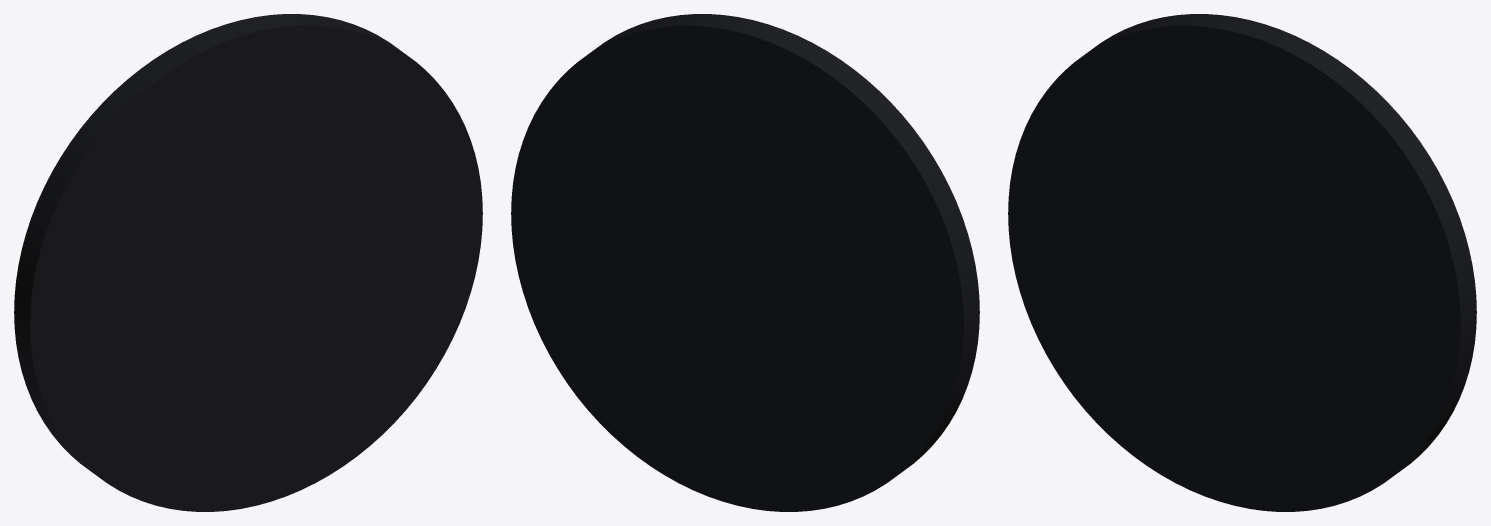
Rendered from nano_center_black.obj.
3 renders of one model, left to right at view 1: azimuth 30°, elevation 25°; view 2: azimuth 150°, elevation 25°; view 3: azimuth 330°, elevation 25°, orthographic.
Bounding box in the file's own units: 0.0131 × 0.0131 × 0.0008.
1 material, 1 textured.
